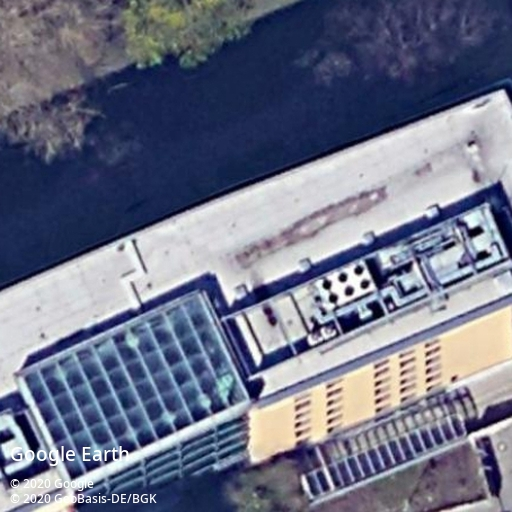Chiller: (315, 257, 380, 314)
